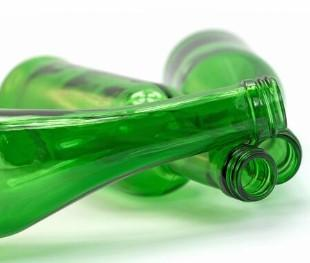glass: (0, 75, 289, 240), (0, 54, 280, 204), (159, 28, 304, 185)
